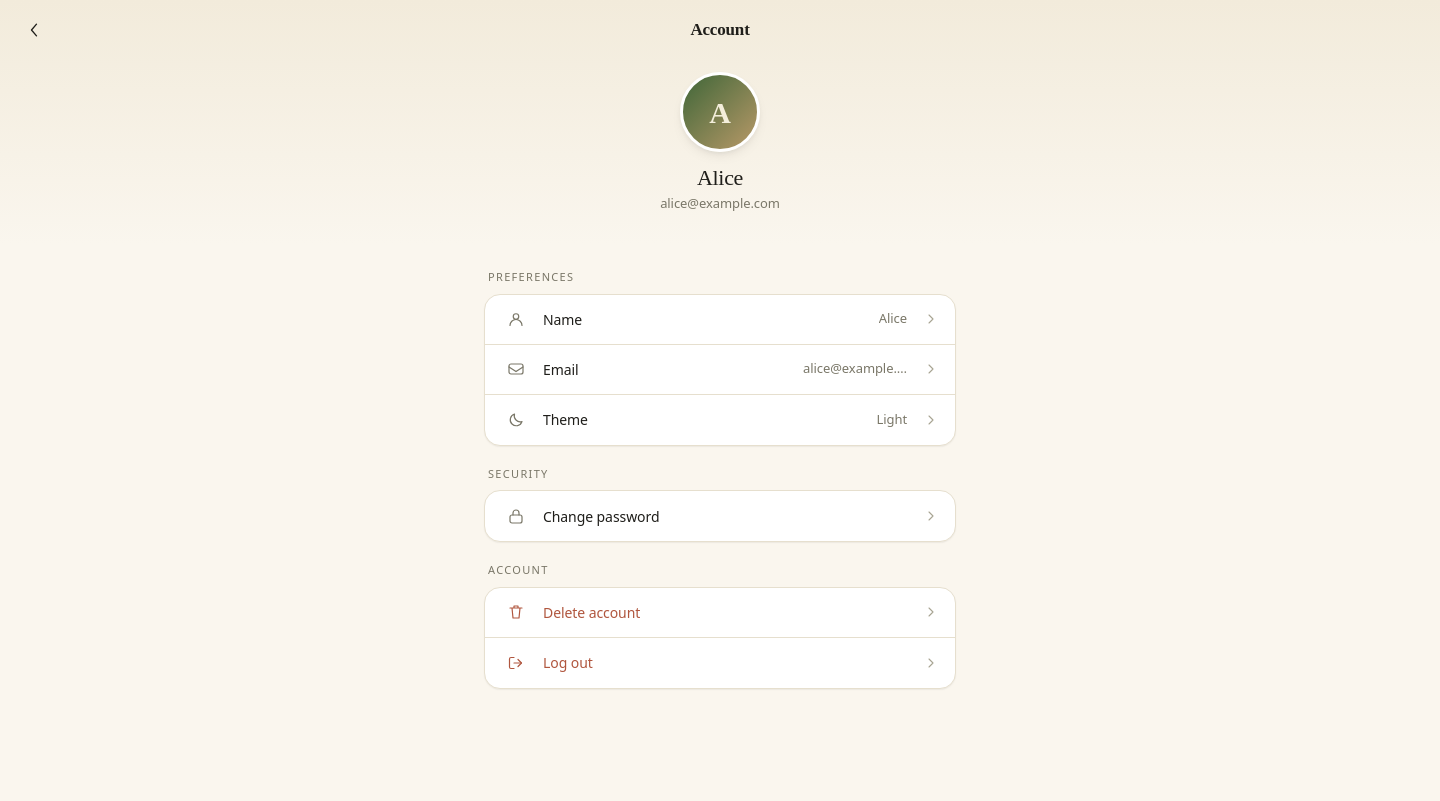
Scenario: AccountPage › shows validation errors when password form is submitted empty
The width and height of the screenshot is (1440, 801).
Click the button "Change password": [601, 516] box [485,491,955,541]
(page scrolled)
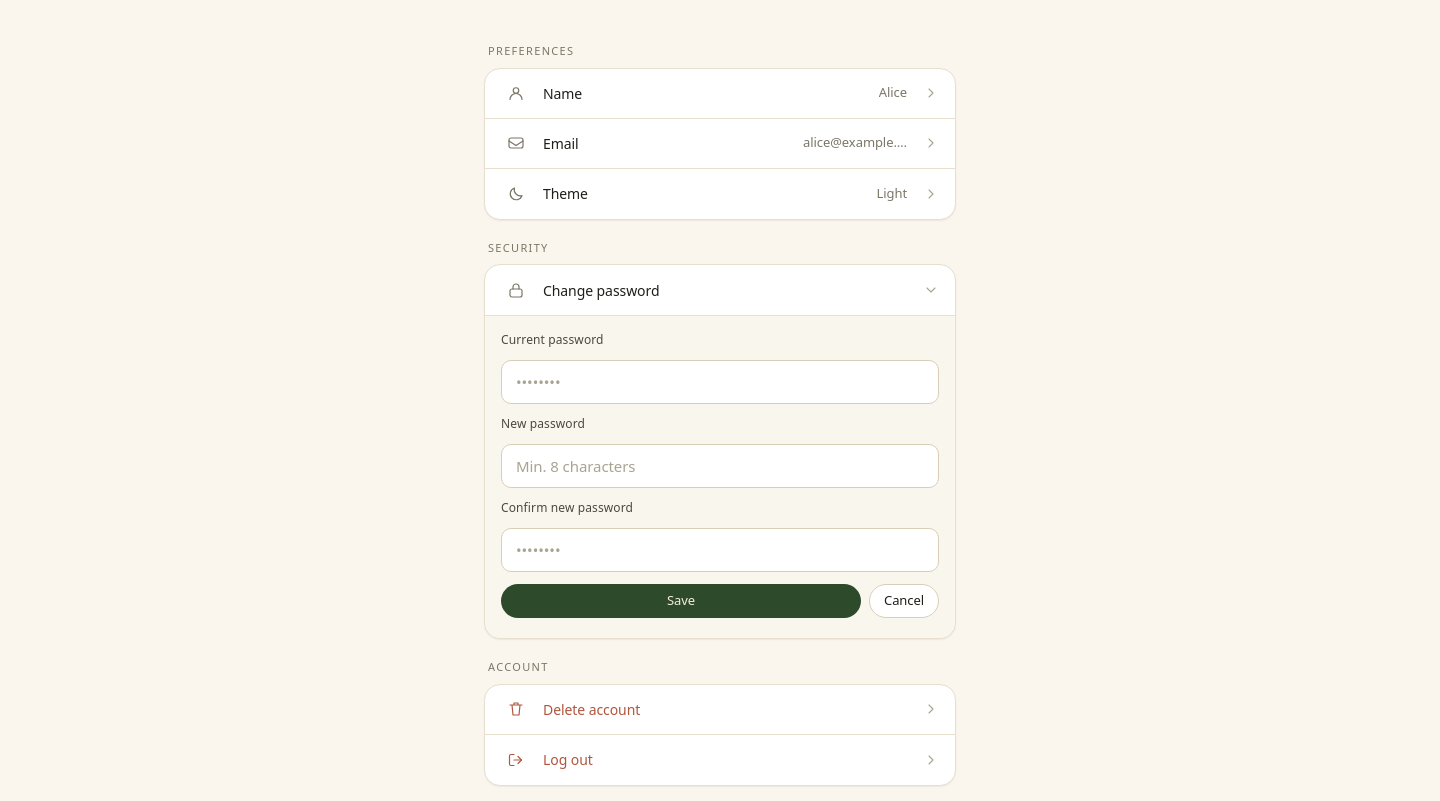
Click the button "Save": [681, 601] box [501,584,861,618]
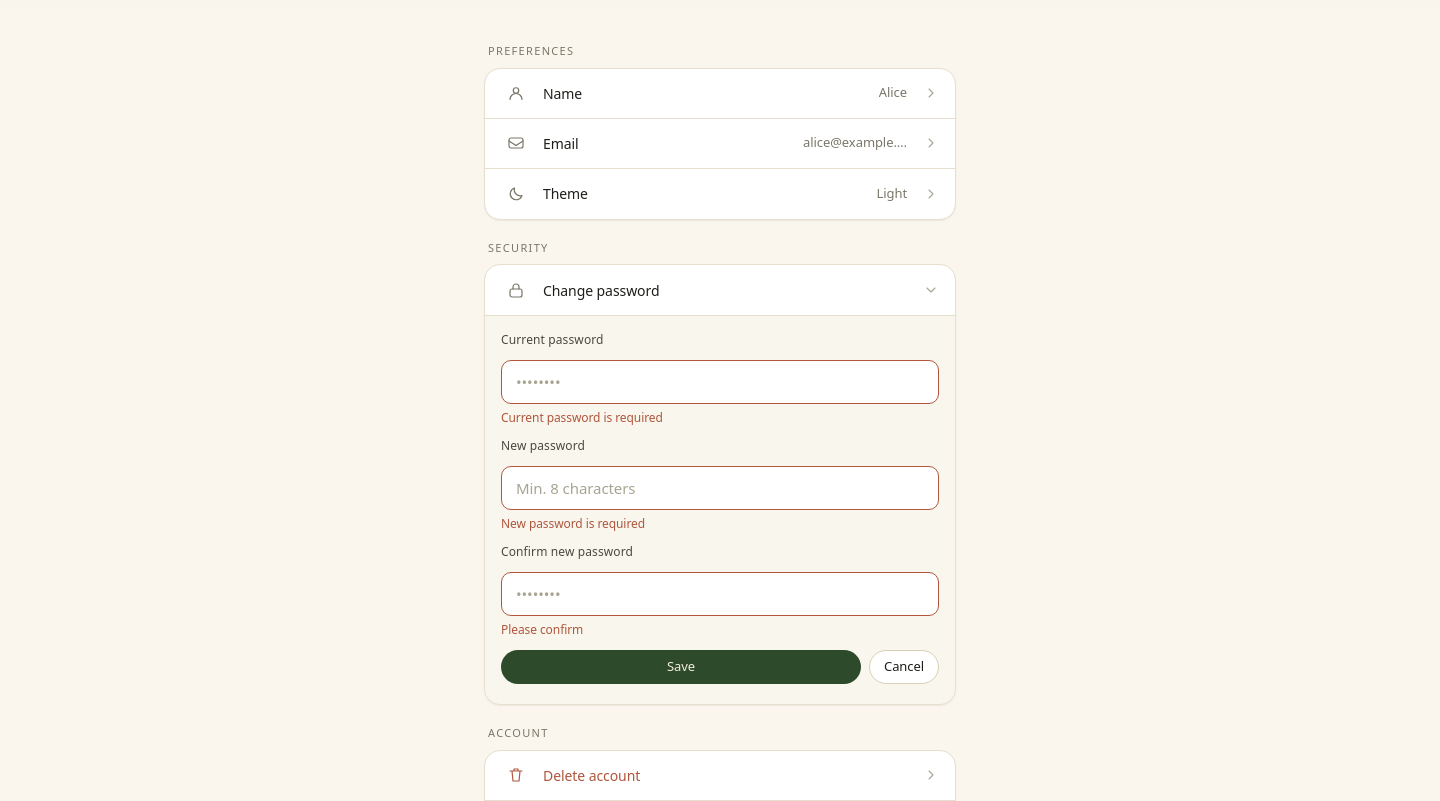
Now the text "Current password is required" is shown, box [501,409,663,426]
Now the text "New password is required" is shown, box [501,515,645,532]
